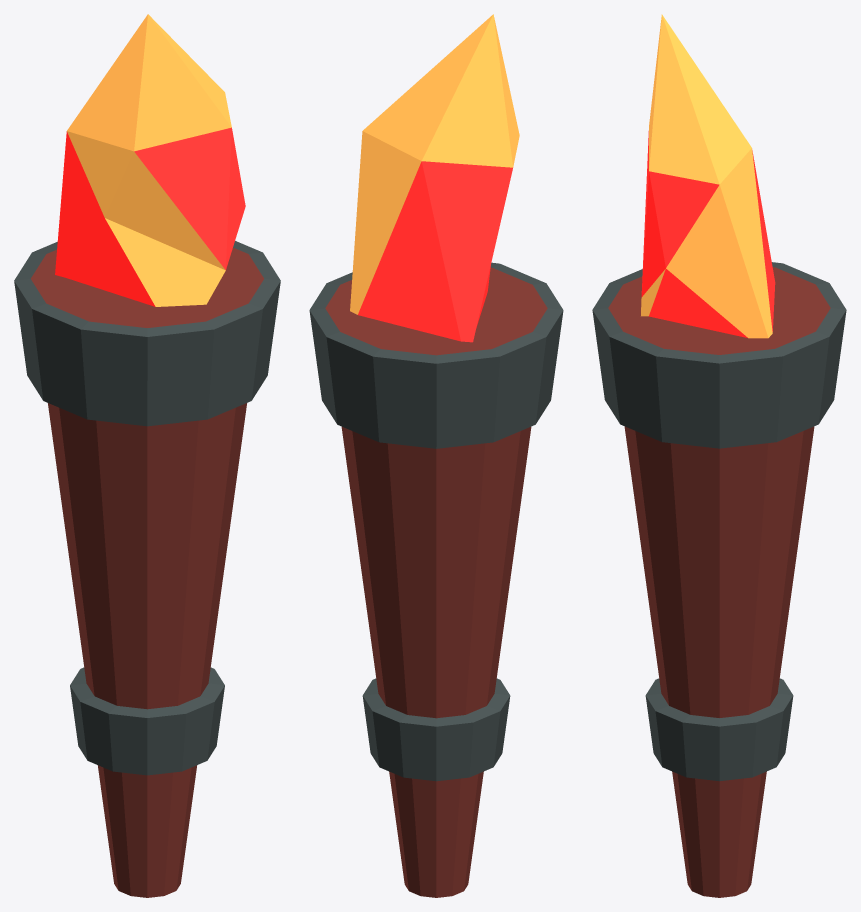
File: Torch_4_Red.fbx
3 views of the same model, side by side, from view 1: azimuth 30°, elevation 25°; view 2: azimuth 150°, elevation 25°; view 3: azimuth 270°, elevation 25° (orthographic). The views are drawn at different scales.
Visible parts, largest first — view 1: Torch_4_Red_Part_1, Torch_4_Red_Part_2, Torch_4_Red_Part_4, Torch_4_Red_Part_3; view 2: Torch_4_Red_Part_1, Torch_4_Red_Part_2, Torch_4_Red_Part_4, Torch_4_Red_Part_3; view 3: Torch_4_Red_Part_1, Torch_4_Red_Part_2, Torch_4_Red_Part_4, Torch_4_Red_Part_3.
Boxes of the visible parts, x1=… form: Torch_4_Red_Part_1: x1=31, y1=247, x2=263, y2=897; Torch_4_Red_Part_2: x1=14, y1=241, x2=280, y2=775; Torch_4_Red_Part_4: x1=67, y1=14, x2=231, y2=306; Torch_4_Red_Part_3: x1=55, y1=127, x2=245, y2=306; Torch_4_Red_Part_1: x1=325, y1=267, x2=547, y2=897; Torch_4_Red_Part_2: x1=309, y1=262, x2=563, y2=781; Torch_4_Red_Part_4: x1=350, y1=14, x2=519, y2=314; Torch_4_Red_Part_3: x1=358, y1=161, x2=512, y2=342; Torch_4_Red_Part_1: x1=608, y1=267, x2=830, y2=897; Torch_4_Red_Part_2: x1=592, y1=262, x2=846, y2=781; Torch_4_Red_Part_4: x1=641, y1=14, x2=772, y2=338; Torch_4_Red_Part_3: x1=641, y1=131, x2=775, y2=337.
Size of the model in its own units: 15.98 by 59.45 by 15.98.
